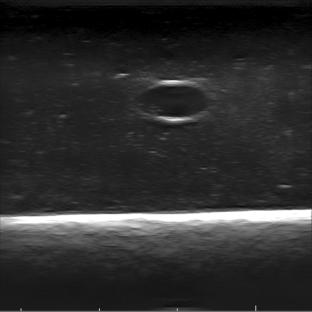vessel: (136, 79, 213, 123)
